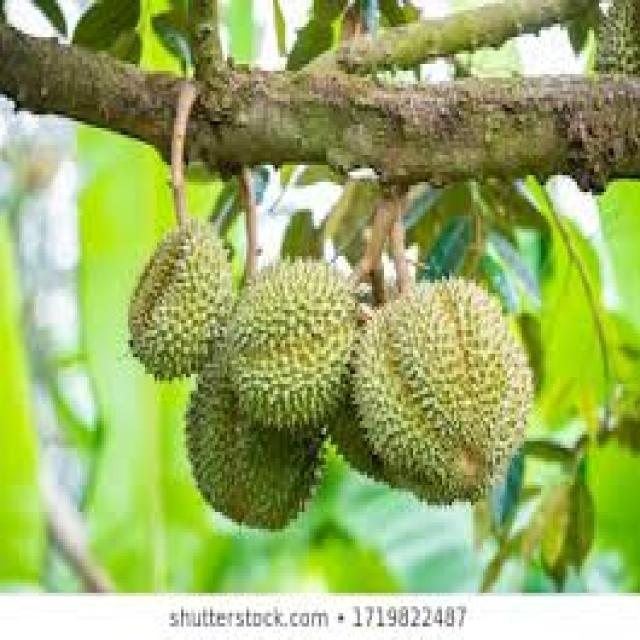immature: (225, 258, 357, 430), (184, 372, 327, 530), (126, 215, 234, 381)
mature: (351, 275, 536, 515)
